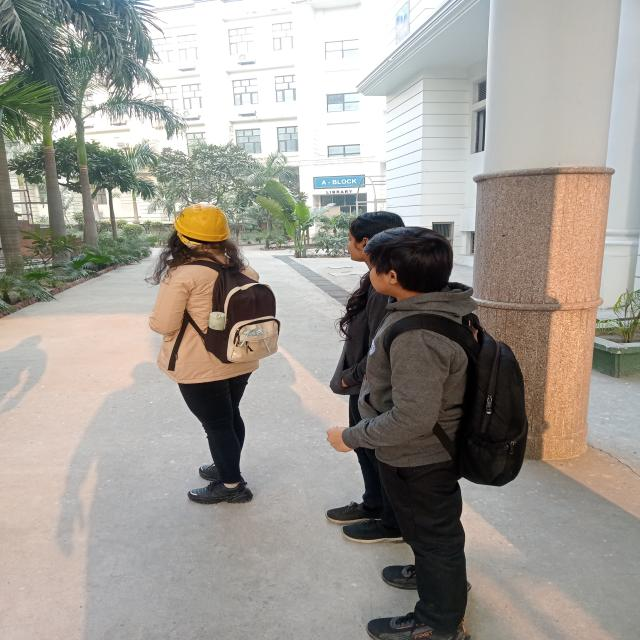no jacket: (362, 226, 480, 640), (152, 203, 276, 506)
